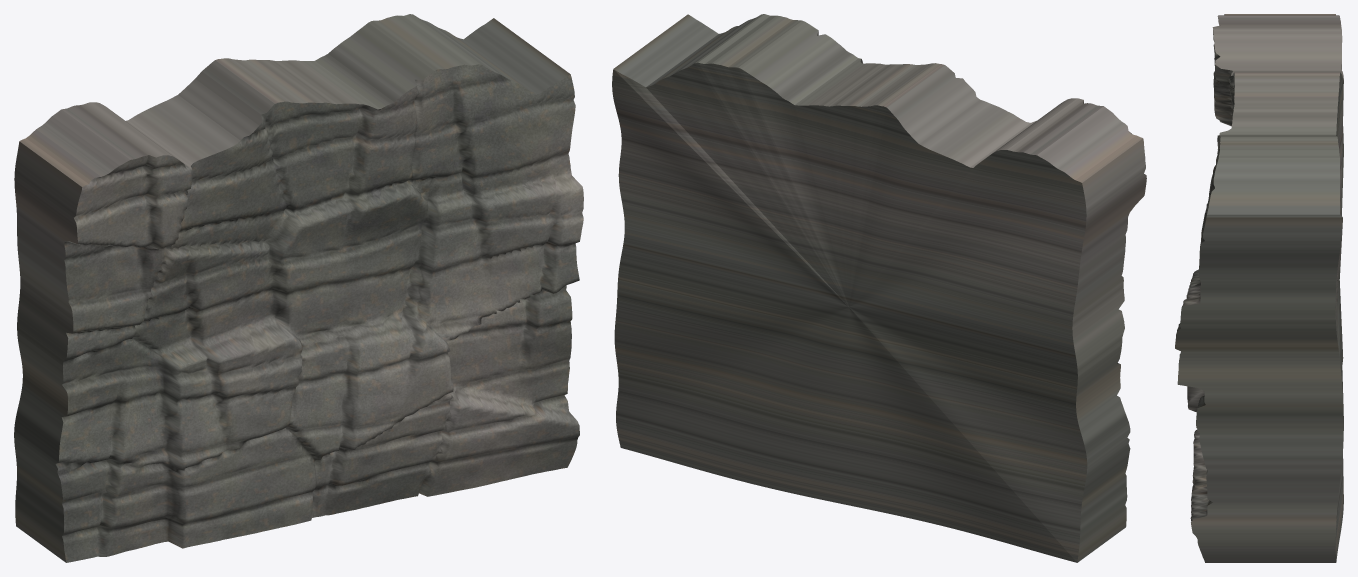
File: rock-lod0.glb
The picture shows the model from 3 angles, left to right: view 1: azimuth 30°, elevation 25°; view 2: azimuth 150°, elevation 25°; view 3: azimuth 270°, elevation 25°; orthographic projection. The views are drawn at different scales.
Visible parts, largest first — view 1: Rock_LOD0; view 2: Rock_LOD0; view 3: Rock_LOD0.
Boxes of the visible parts, left/top/right/bottom form: Rock_LOD0: left=14, top=14, right=583, bottom=562; Rock_LOD0: left=612, top=14, right=1146, bottom=562; Rock_LOD0: left=1175, top=14, right=1343, bottom=562.
Bounding box in the file's own units: 12.07 × 10.02 × 4.1.
Materials: 1 (1 with a texture image).
